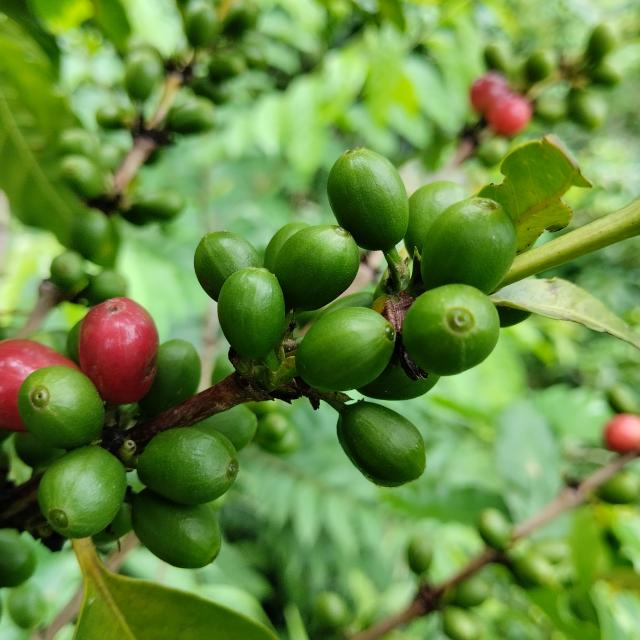green: (421, 196, 518, 294), (402, 284, 501, 376), (327, 147, 409, 252), (295, 307, 396, 392), (37, 446, 126, 539), (136, 428, 239, 506), (337, 401, 426, 488), (273, 225, 360, 311), (17, 366, 104, 449), (131, 489, 221, 569), (217, 267, 285, 359), (404, 180, 470, 257), (138, 339, 201, 418), (194, 231, 262, 302), (357, 352, 441, 401), (264, 222, 310, 272)
red: (78, 297, 158, 405), (0, 339, 79, 432)
